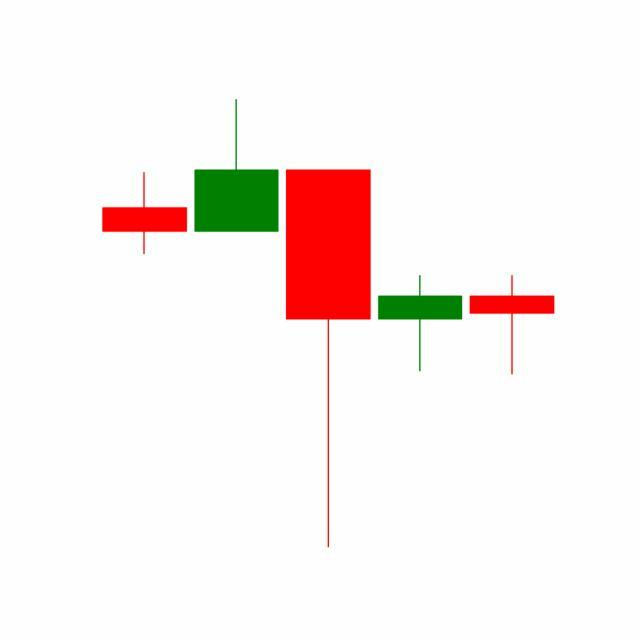Spinning Top: (466, 274, 559, 377)
